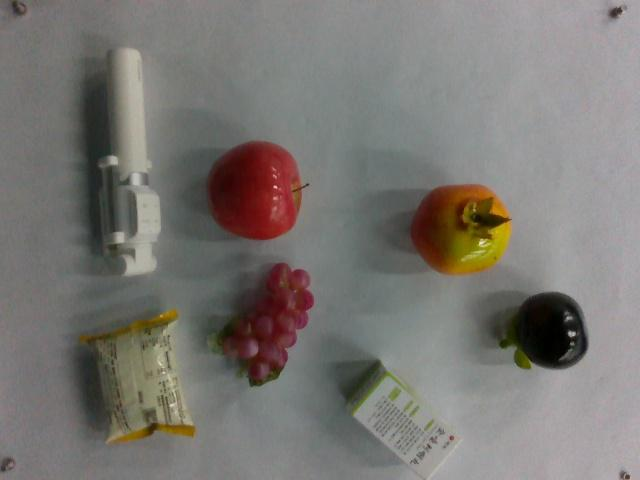apple: (201, 141, 307, 238)
carton: (341, 362, 461, 475)
dessert: (83, 309, 197, 446)
grape: (211, 265, 315, 385)
mangosteen: (498, 289, 587, 372)
pomegranate: (408, 180, 512, 278)
selfiestick: (94, 39, 160, 272)
